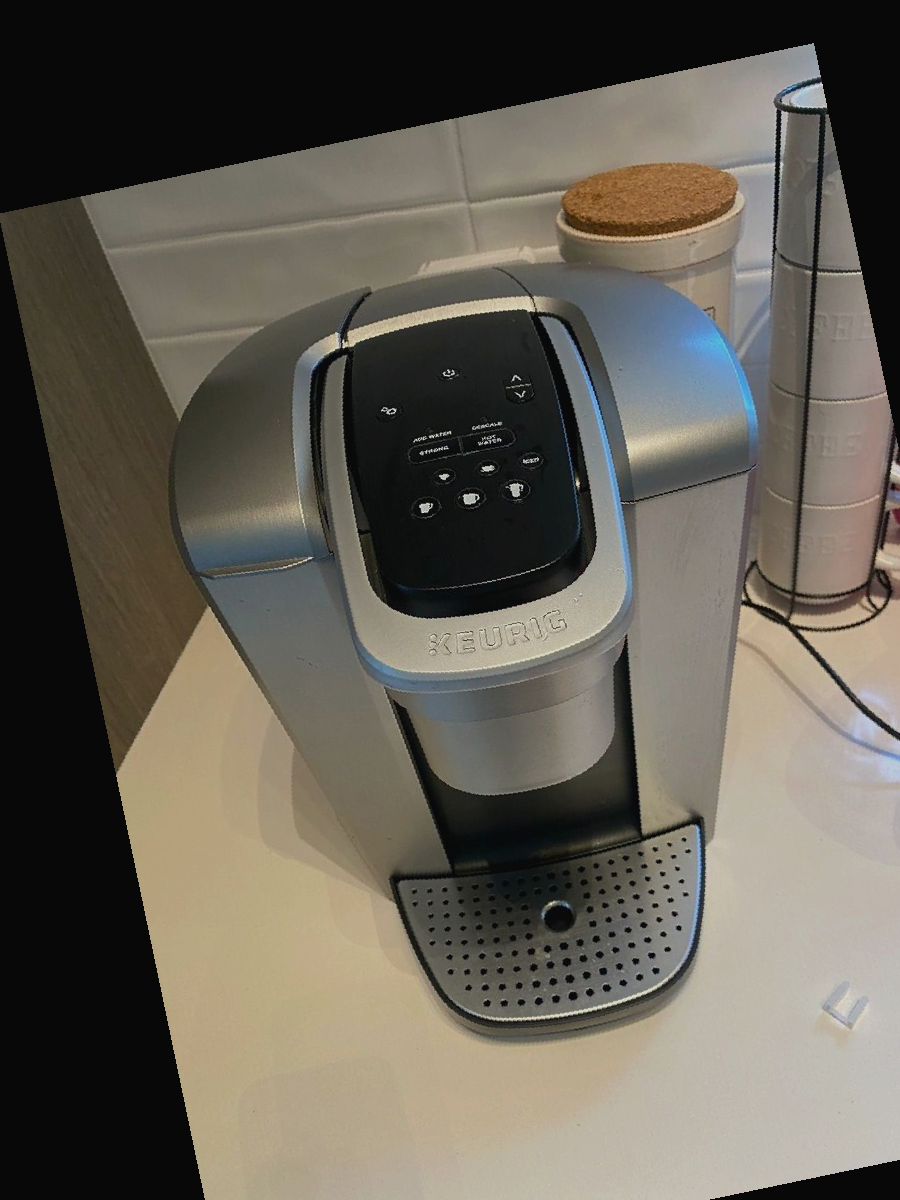10oz: (452, 486, 488, 514)
12oz: (499, 476, 535, 505)
4oz: (429, 465, 458, 488)
6oz: (474, 457, 502, 479)
8oz: (407, 493, 443, 521)
add_water: (394, 413, 459, 447)
descale: (455, 404, 519, 435)
hot: (459, 422, 524, 456)
iced: (517, 449, 546, 471)
power: (434, 364, 468, 386)
strong: (398, 435, 463, 469)
